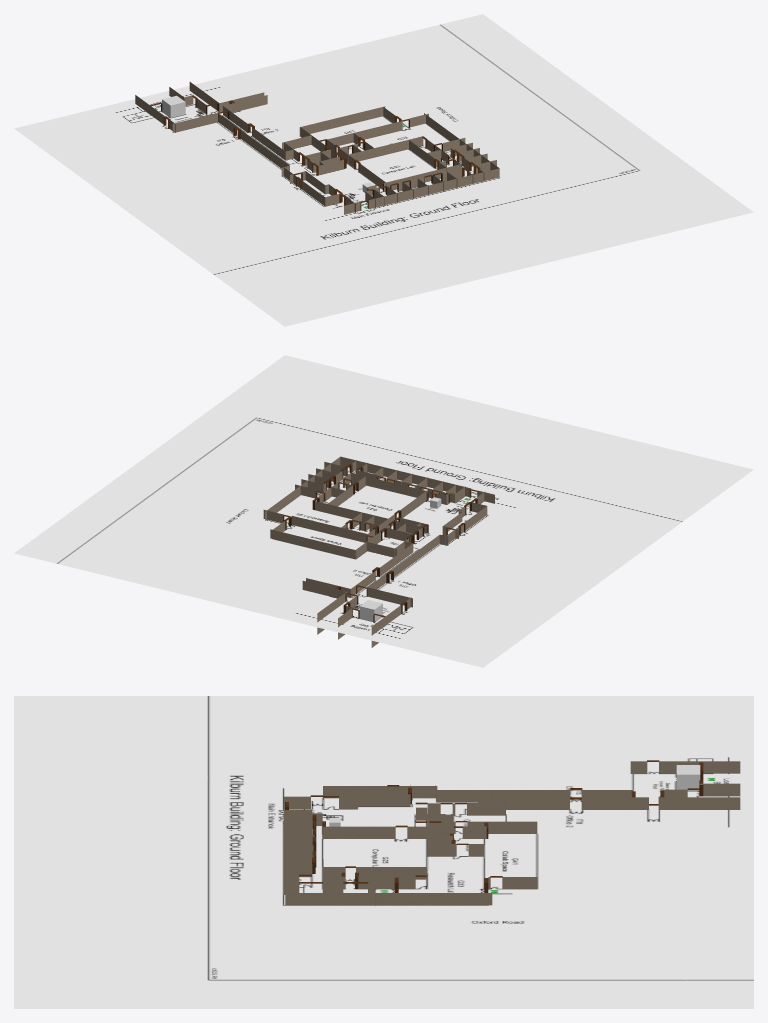
File: GFloor.glb
The picture shows the model from 3 angles, top to bottom: view 1: azimuth 30°, elevation 25°; view 2: azimuth 150°, elevation 25°; view 3: azimuth 270°, elevation 25°; orthographic projection. The views are drawn at different scales.
Visible parts, largest first — view 1: ground_aligned, Walls, Cube.017; view 2: ground_aligned, Walls, Cube.017; view 3: ground_aligned, Walls, Cube.017, GoodsLift.
Boxes of the visible parts, x1=… form: ground_aligned: x1=14, y1=14, x2=753, y2=326; Walls: x1=135, y1=82, x2=499, y2=214; Cube.017: x1=150, y1=95, x2=480, y2=210; ground_aligned: x1=14, y1=355, x2=753, y2=667; Walls: x1=263, y1=456, x2=494, y2=647; Cube.017: x1=283, y1=464, x2=478, y2=622; ground_aligned: x1=14, y1=696, x2=753, y2=1008; Walls: x1=283, y1=761, x2=740, y2=905; Cube.017: x1=285, y1=760, x2=703, y2=892; GoodsLift: x1=676, y1=765, x2=700, y2=791.
Size of the model in its own units: 19.63 by 0.9862 by 19.63.
Materials: 4 (4 with a texture image).
